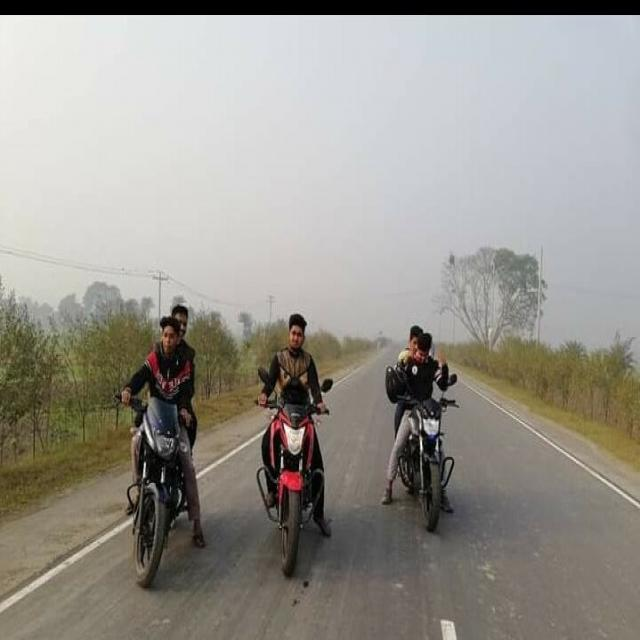Not Wearing Helmet: (285, 312, 330, 372), (400, 339, 453, 378), (149, 316, 197, 353)
